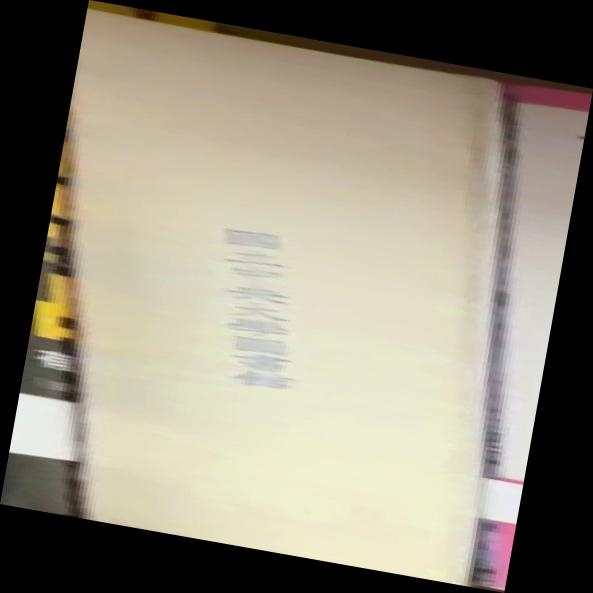backward: (1, 1, 590, 592)
